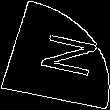N_W: (19, 29, 91, 81)
